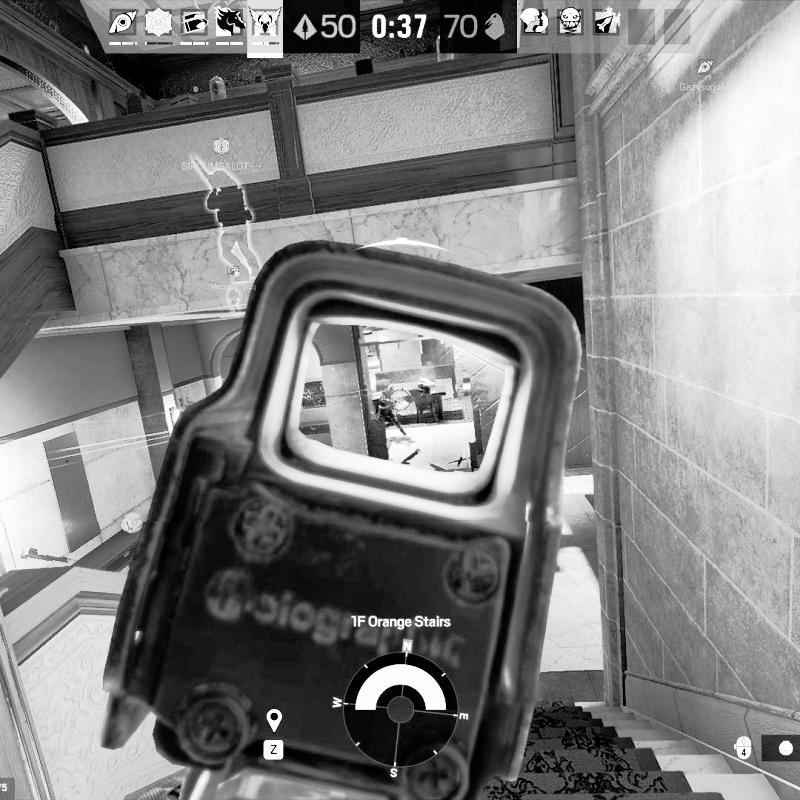Character: (376, 384, 408, 437)
Friend_label: (178, 136, 265, 174), (676, 56, 733, 95), (211, 265, 257, 292)
Head: (388, 384, 396, 393)
